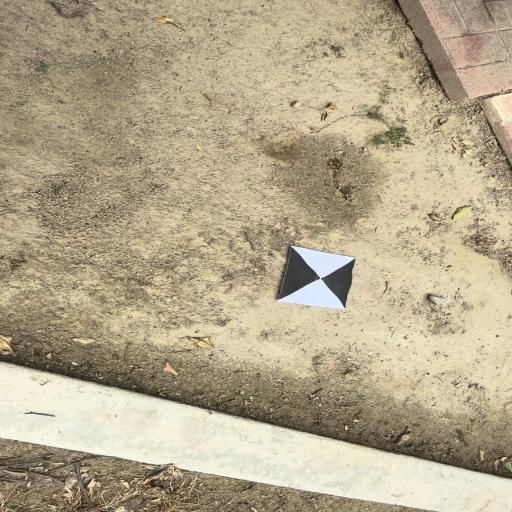target: (278, 246, 357, 309)
